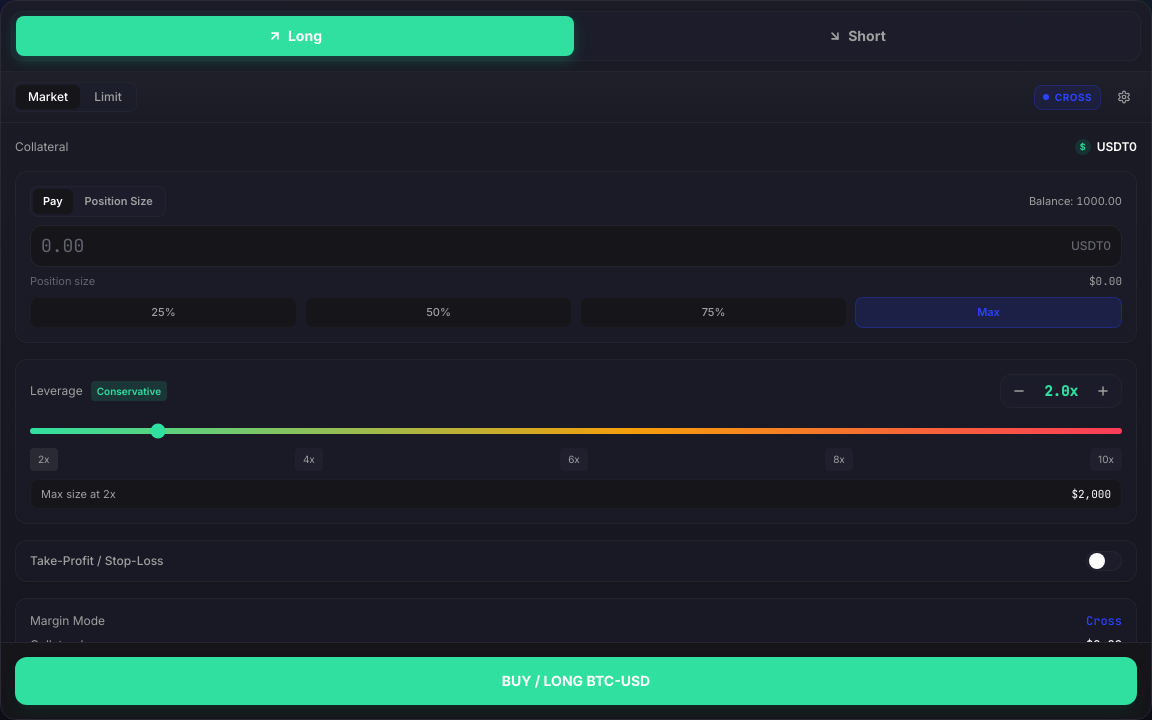
Test: TradingForm execution › cancels the confirmation modal
Type "100" into the number field with test id "margin-input" at (552, 246), box [41,232,1063,260]
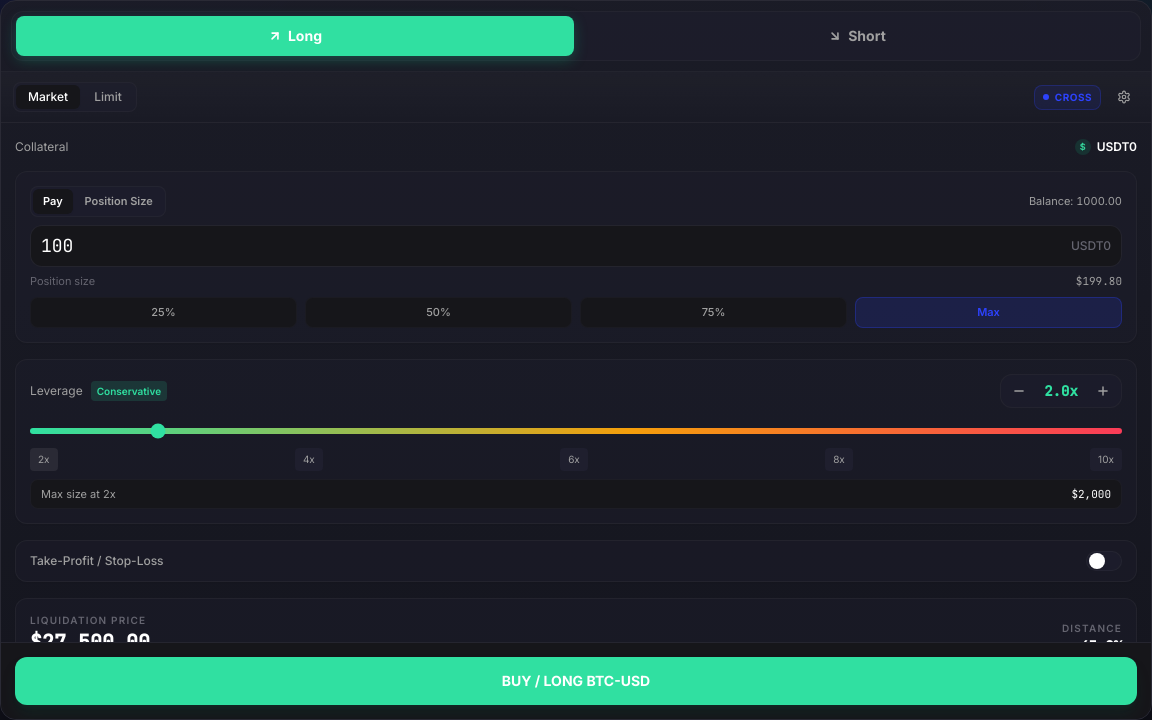
Click the button with test id "trade-button" at (576, 681), box [15,657,1137,705]
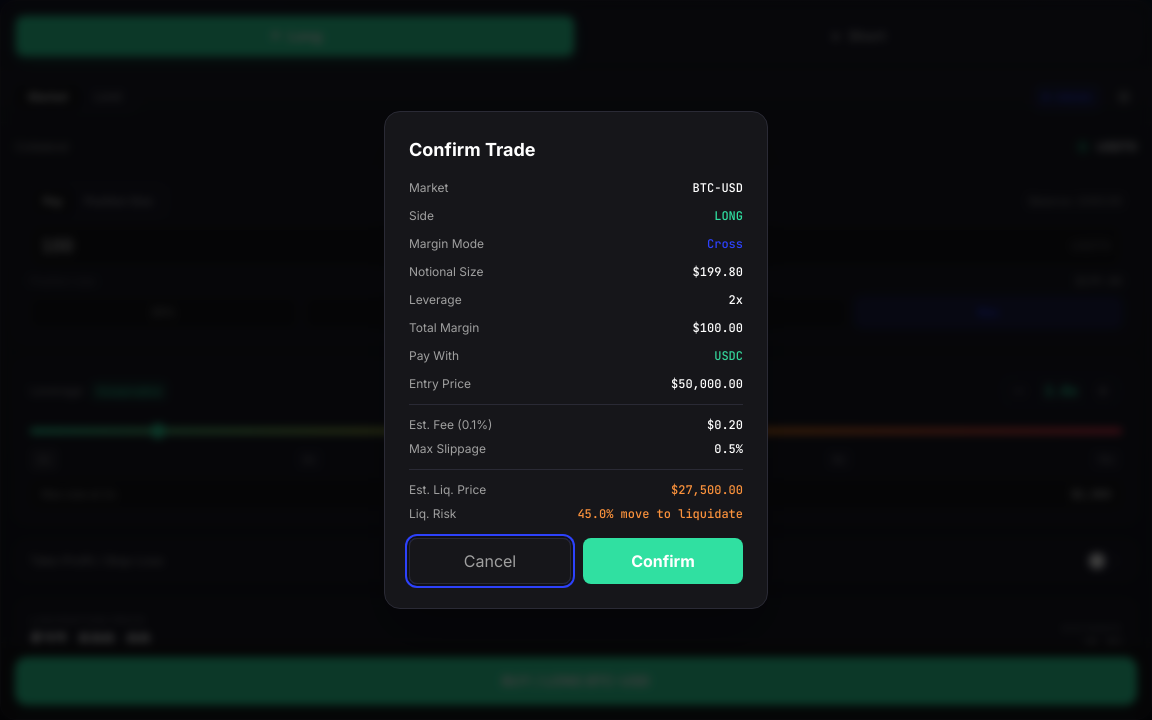
Check: the heading "Confirm Trade" is shown, box [409,139,536,160]
Click the button "Cancel" at (490, 561), box [409,538,571,584]
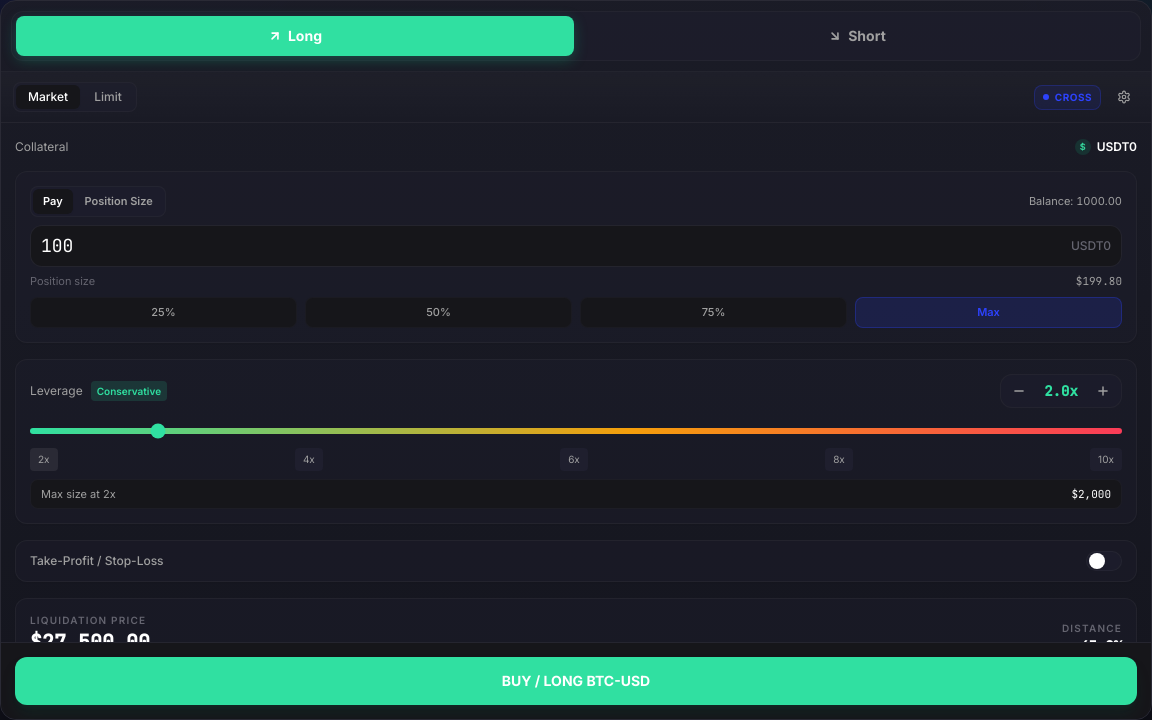
Check: the heading with test id "confirm-modal-title" is gone
